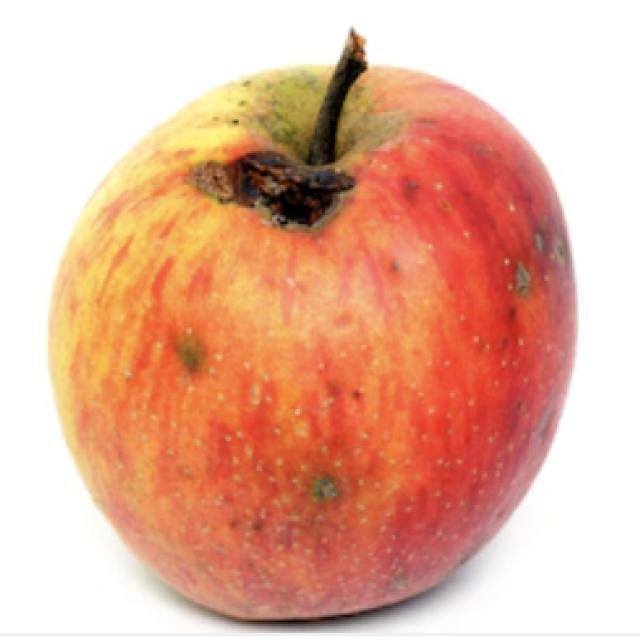Rotten: (89, 68, 581, 640)
